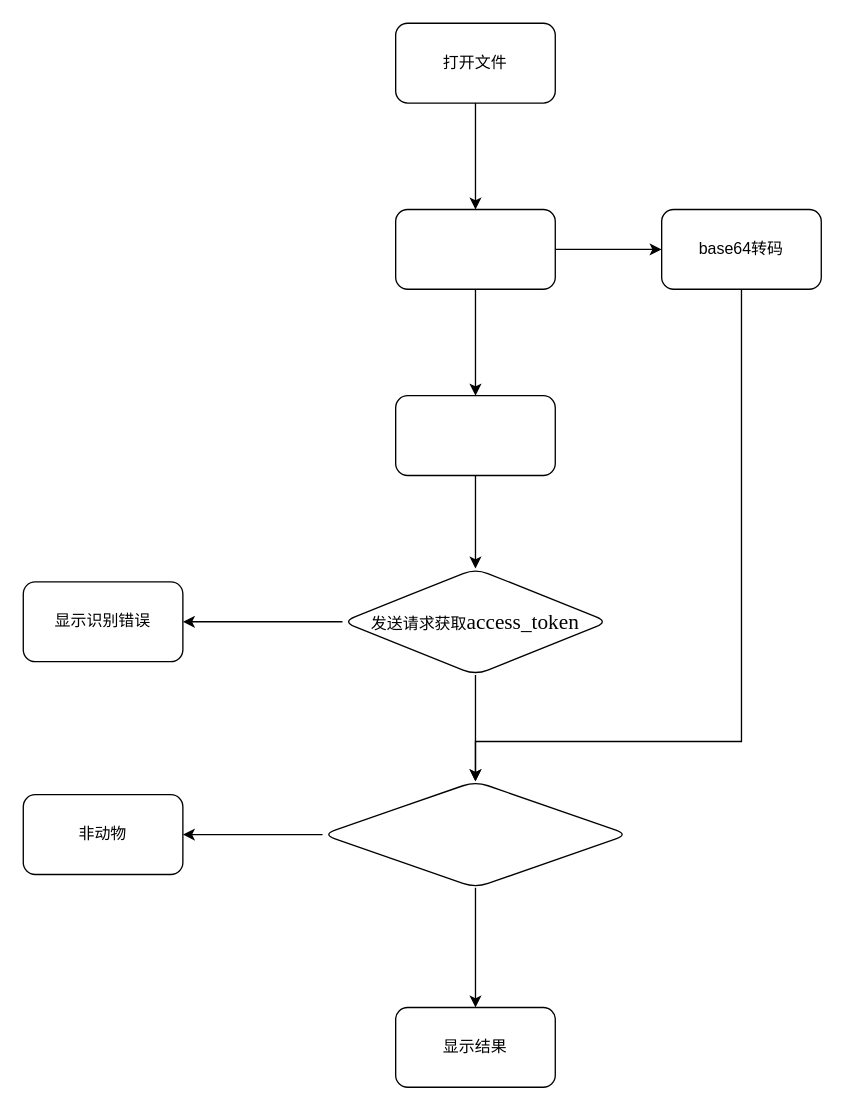
This 845x1111 diagram has some shape labels left out. The box of each missing label's shape, as (x1, y1, x2, y2) in pixels:
发送请求: (321, 780, 628, 888)
开始识别: (394, 394, 555, 475)
进行展示照片: (394, 208, 555, 289)
